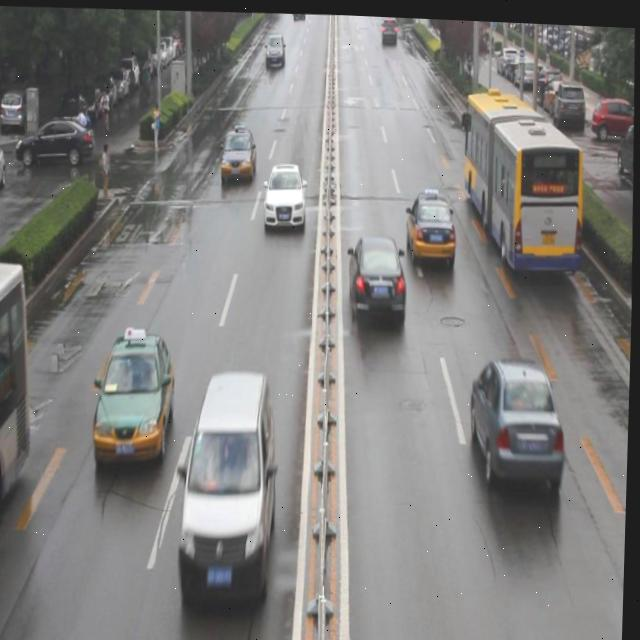car: (468, 353, 567, 491), (93, 325, 177, 467), (347, 233, 408, 324), (404, 188, 456, 267), (262, 158, 307, 230), (220, 124, 256, 180)
truck: (181, 368, 282, 602)
van: (457, 85, 583, 270), (0, 254, 39, 541)
